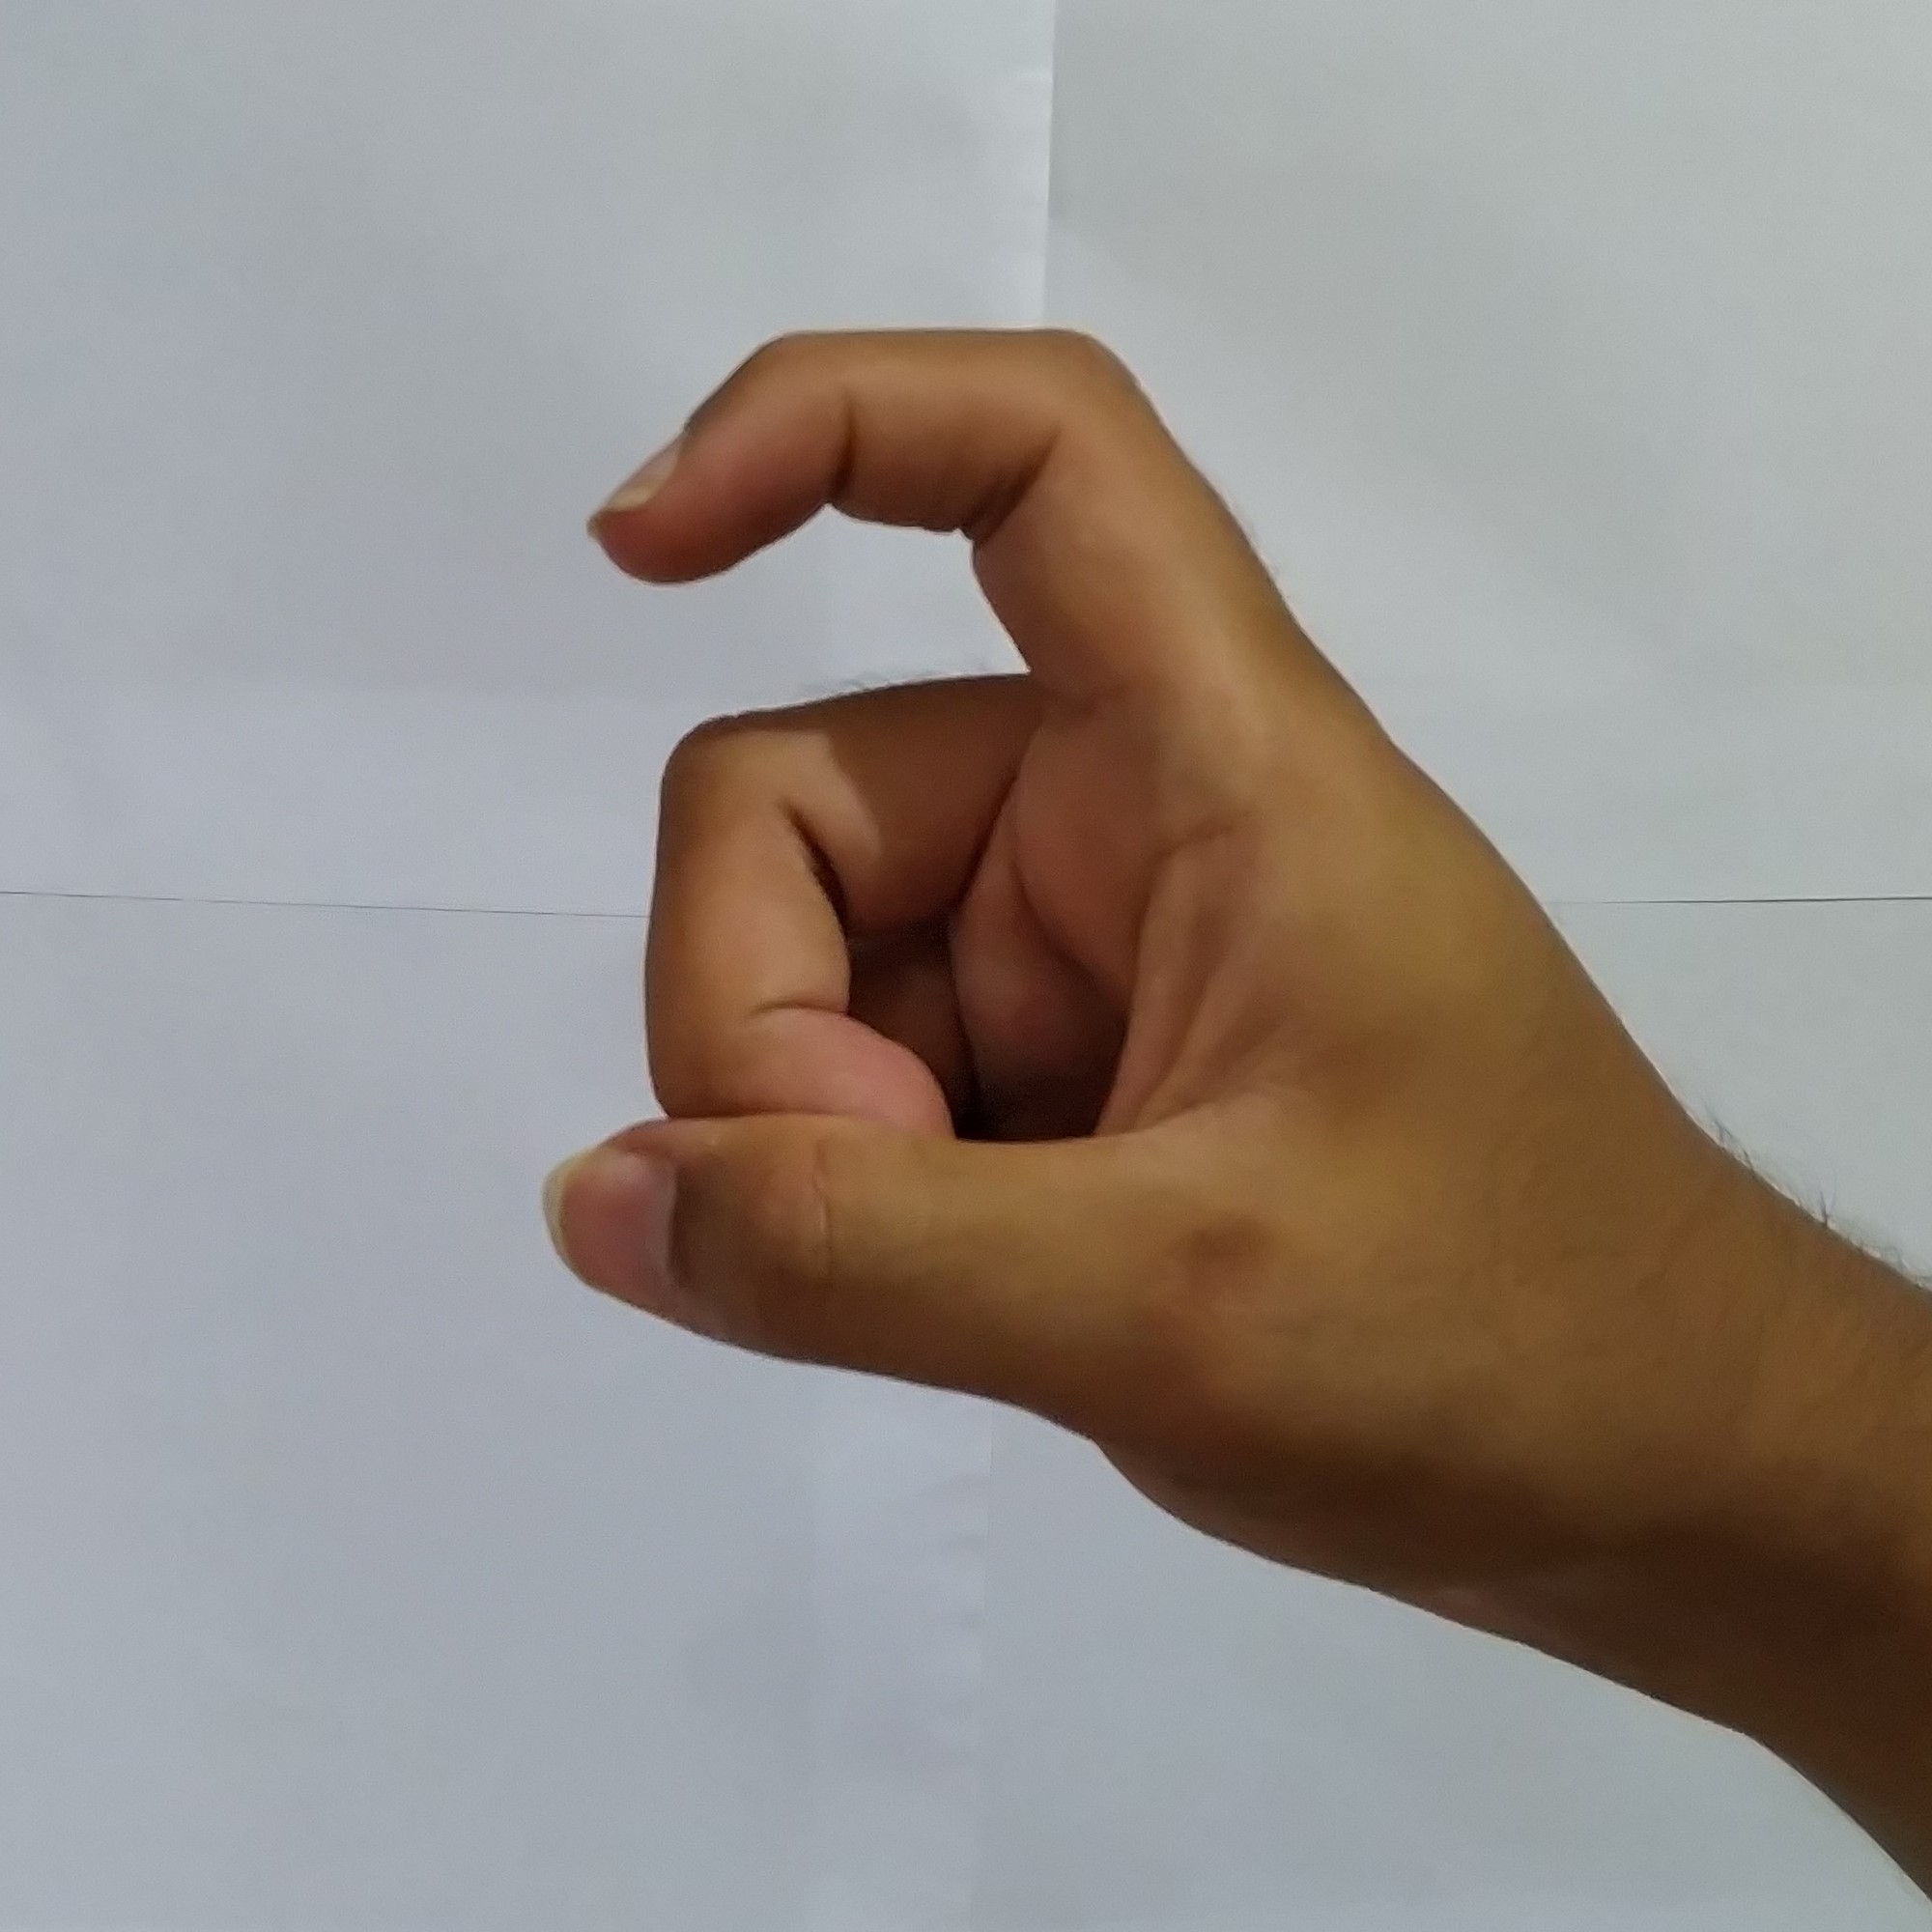X: (508, 271, 1769, 1614)
